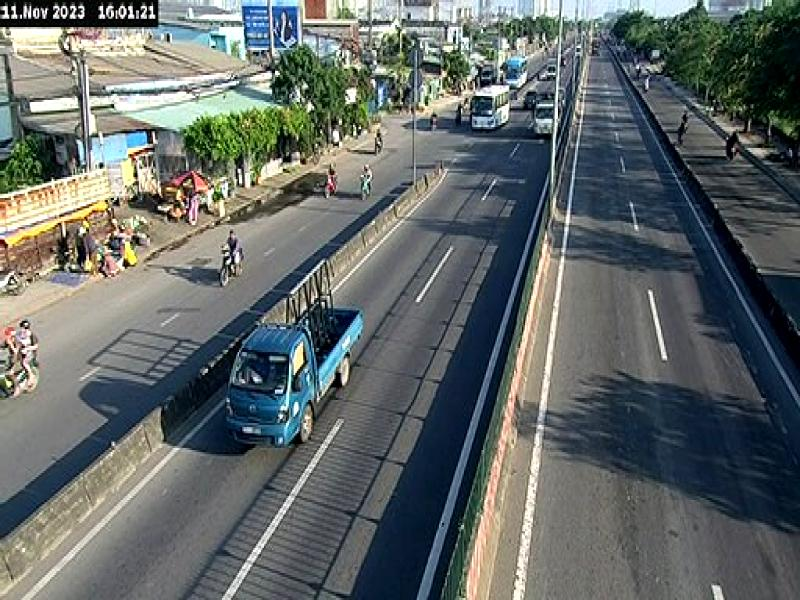bus: (469, 84, 512, 133)
truck: (224, 298, 364, 450)
